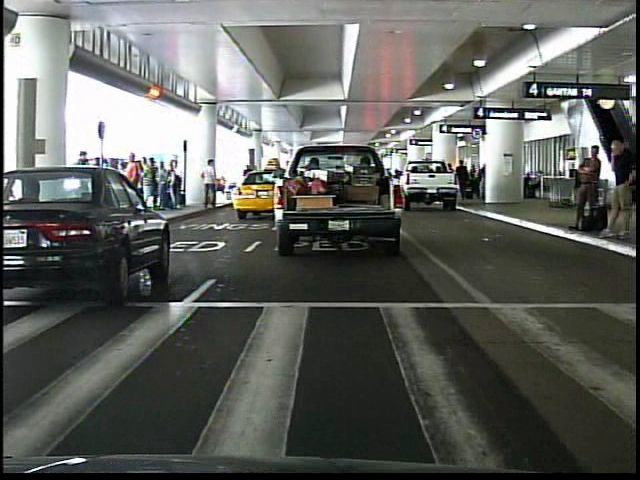person: (566, 134, 603, 241), (602, 136, 635, 240), (121, 152, 147, 222), (201, 160, 223, 213)
